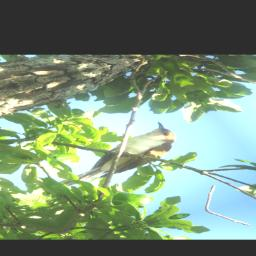Cuckoo: (22, 119, 200, 190)
